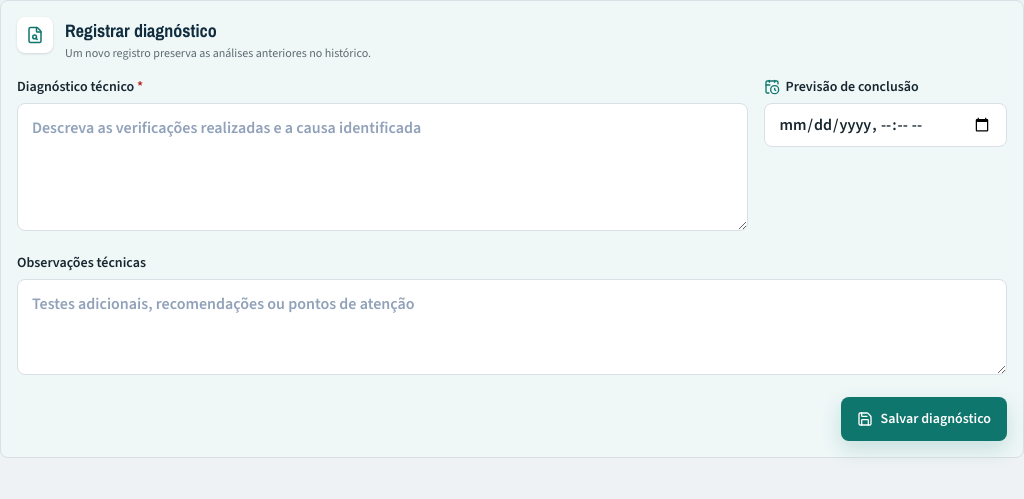
formulário de diagnóstico › valida a descrição antes de enviar
Click the button "Salvar diagnóstico" at [924, 419], box [841, 397, 1007, 441]
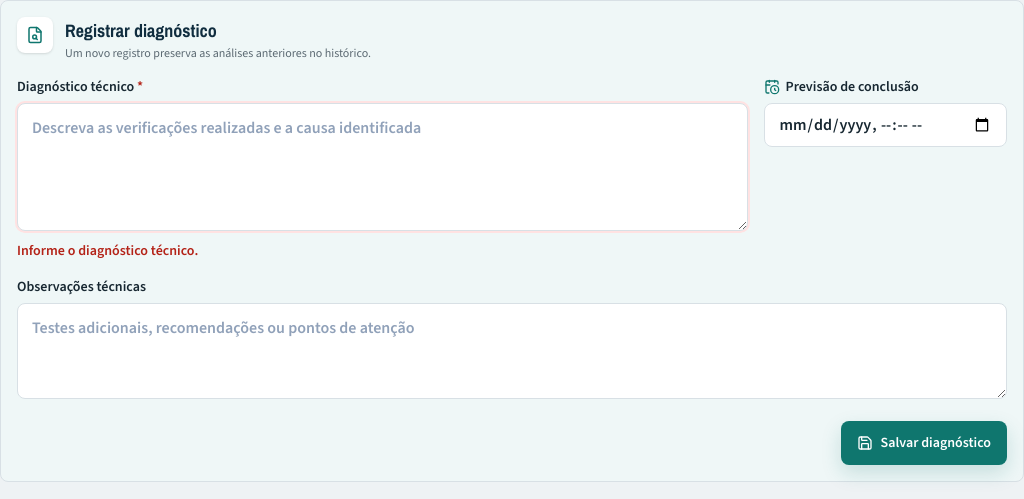
Now the text "Informe o diagnóstico técnico." is shown, box [17, 241, 198, 260]
